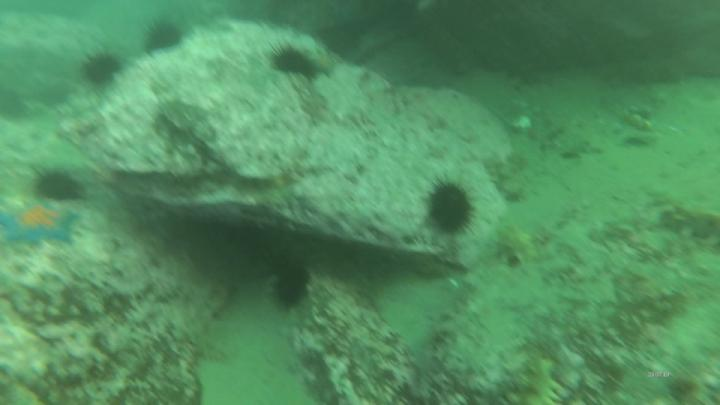echinus: (427, 181, 475, 238), (32, 165, 87, 204), (271, 259, 312, 308), (270, 43, 317, 81), (82, 52, 124, 87), (142, 19, 183, 54)
holothurian: (513, 345, 566, 405), (495, 221, 539, 267)
starfish: (1, 198, 83, 249)
